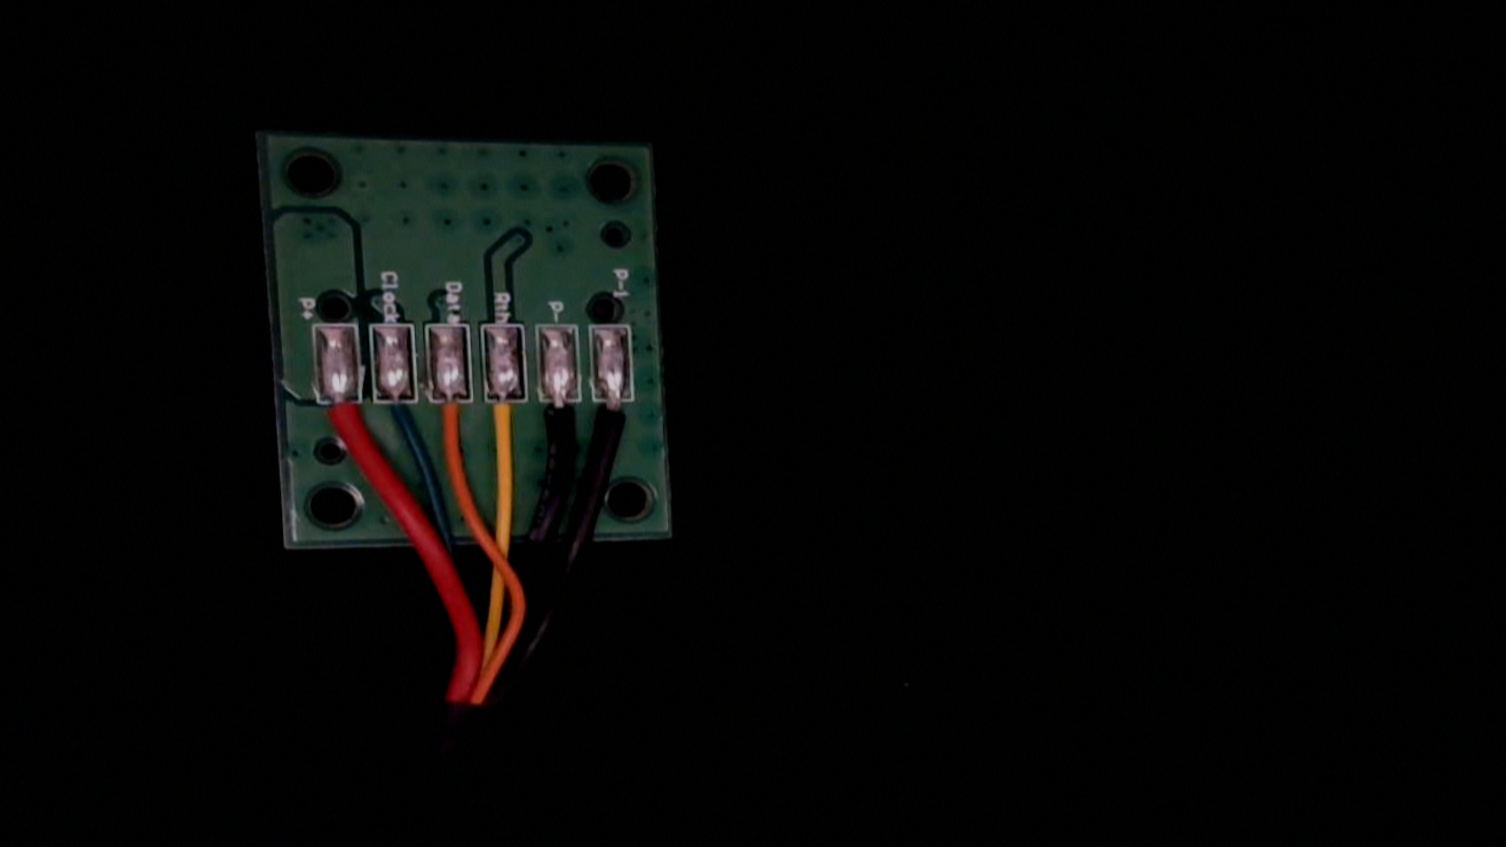Black: (534, 379, 584, 466)
Black1: (592, 381, 641, 461)
Green: (368, 377, 420, 462)
Orange: (429, 377, 478, 464)
Red: (313, 374, 365, 459)
Yellow: (479, 376, 531, 466)
